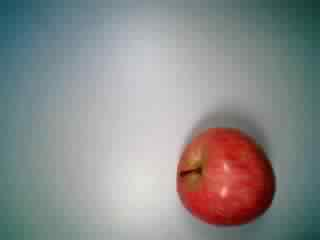apple: (176, 126, 280, 230)
